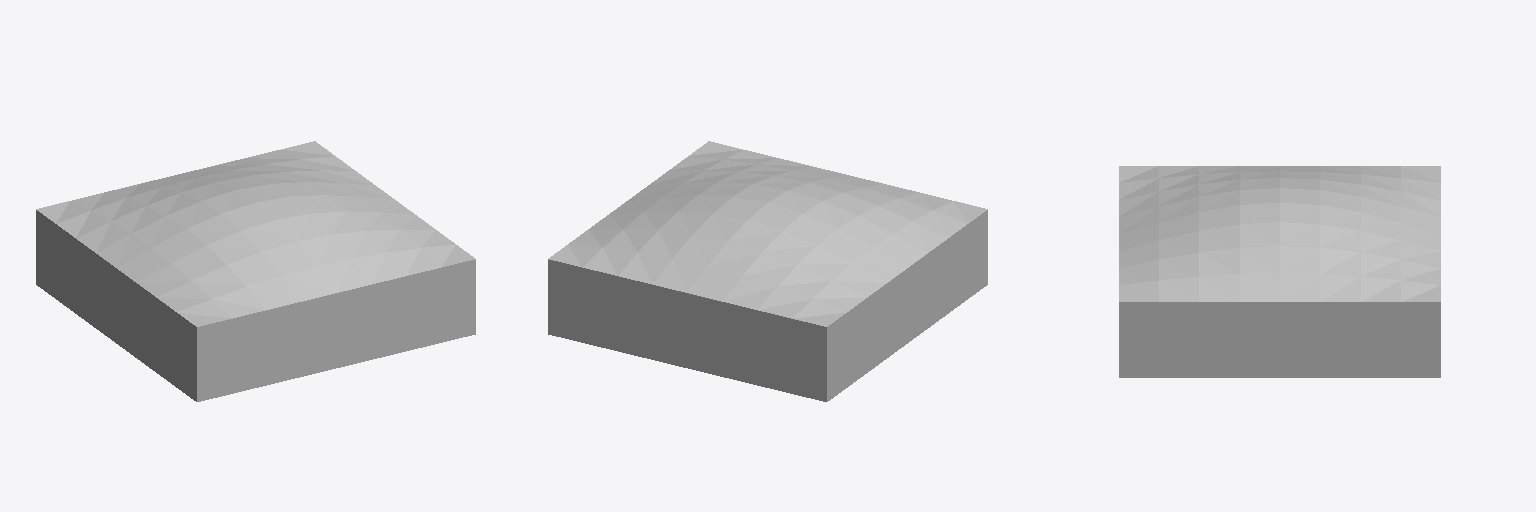
The model's file is block_rect_curved_4x4.obj.
3 renders of one model, left to right at view 1: azimuth 30°, elevation 25°; view 2: azimuth 150°, elevation 25°; view 3: azimuth 270°, elevation 25°, orthographic.
Visible parts, largest first — view 1: polySurface5 polySurface7, polySurface5 polySurface8, polySurface6 polySurface5; view 2: polySurface5 polySurface7, polySurface5 polySurface8, polySurface6 polySurface5; view 3: polySurface5 polySurface7, polySurface5 polySurface8, polySurface6 polySurface5.
Boxes of the visible parts, x1,y1,x2,y2 form: polySurface5 polySurface7: [36, 141, 474, 326]; polySurface5 polySurface8: [36, 217, 475, 401]; polySurface6 polySurface5: [36, 210, 475, 334]; polySurface5 polySurface7: [549, 141, 987, 326]; polySurface5 polySurface8: [548, 217, 987, 401]; polySurface6 polySurface5: [548, 210, 987, 334]; polySurface5 polySurface7: [1119, 166, 1440, 301]; polySurface5 polySurface8: [1119, 310, 1440, 377]; polySurface6 polySurface5: [1119, 302, 1440, 309].
Bounding box in the file's own units: 800 × 293 × 800.